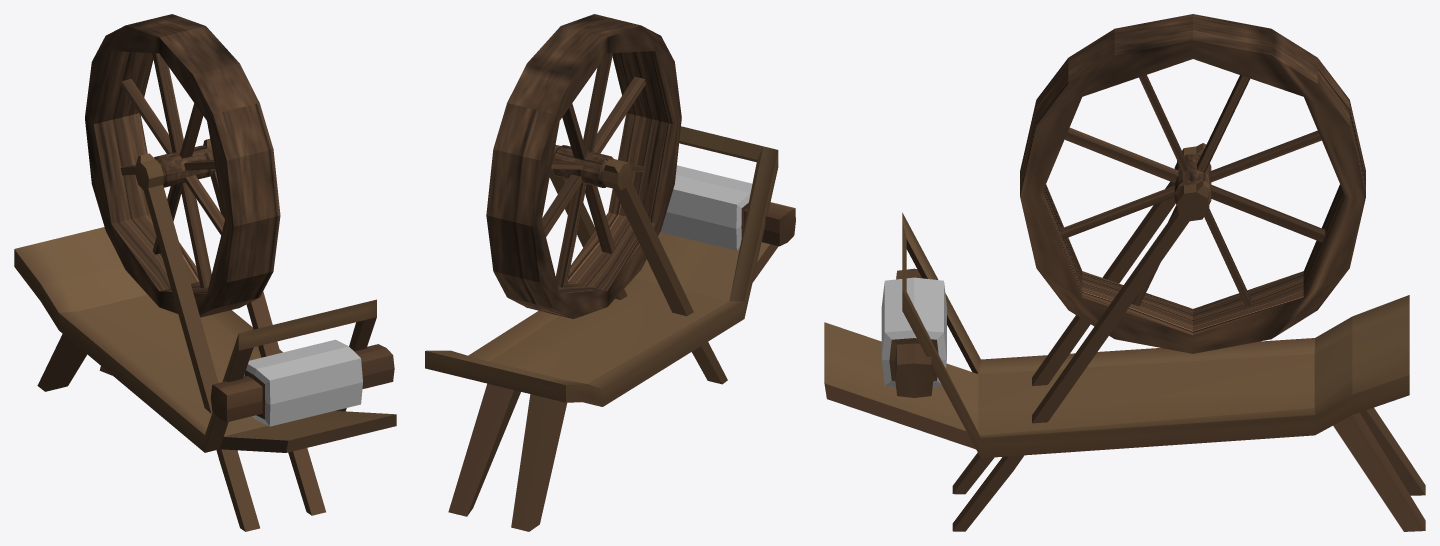
Rendered from SpinningWheel.glb.
3 views of the same model, side by side, from view 1: azimuth 30°, elevation 25°; view 2: azimuth 150°, elevation 25°; view 3: azimuth 270°, elevation 25° (orthographic). The views are drawn at different scales.
Parts seen in each view (by area): view 1: Cube.001, Cube; view 2: Cube.001, Cube; view 3: Cube.001, Cube.
Boxes of the visible parts, <box> form: Cube.001: <box>14,138,396,531</box>; Cube: <box>85,14,280,317</box>; Cube.001: <box>425,126,795,531</box>; Cube: <box>486,14,681,318</box>; Cube.001: <box>824,143,1425,531</box>; Cube: <box>1020,14,1365,353</box>.
Bounding box in the file's own units: 0.4388 × 1.04 × 1.17.
Materials: 3 (2 with a texture image).
